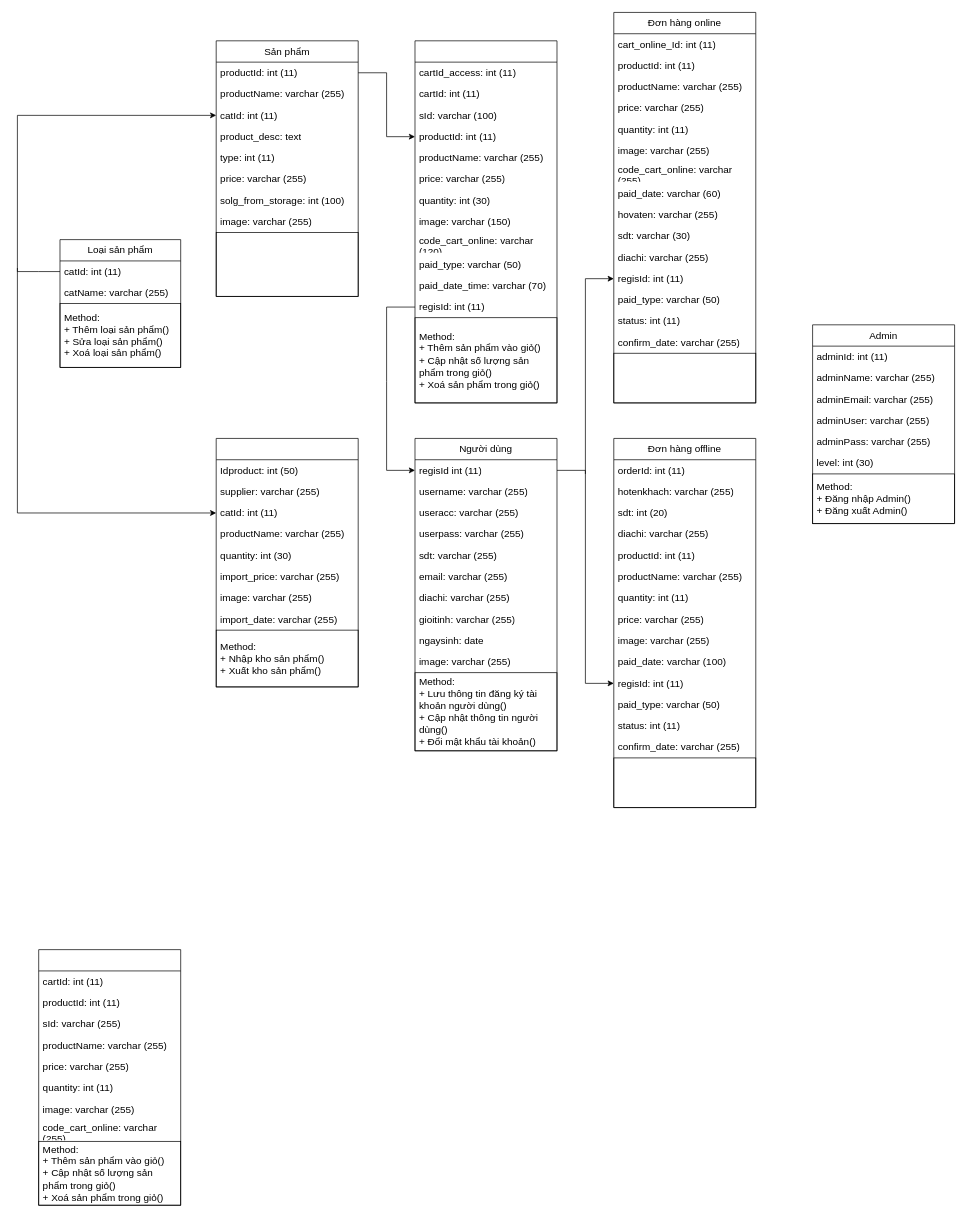
Some shapes in this 967 by 1218 pixel diagram are drawn without their labels. The box of each missing label's shape, as (x1, y1, x2, y2) in pixels:
Giỏ hàng: (414, 40, 557, 403)
Giỏ hàng (tạm thời): (38, 949, 181, 1205)
Method: + Cập nhật thông tin sản phẩm() + Xoá thông tin sản phẩm(): (215, 232, 358, 296)
Method: + Lưu thông tin đơn hàng offline(): (613, 757, 756, 808)
Method: + Lưu thông tin đơn hàng online(): (613, 353, 756, 403)
Sản phẩm trong kho: (215, 438, 358, 687)
